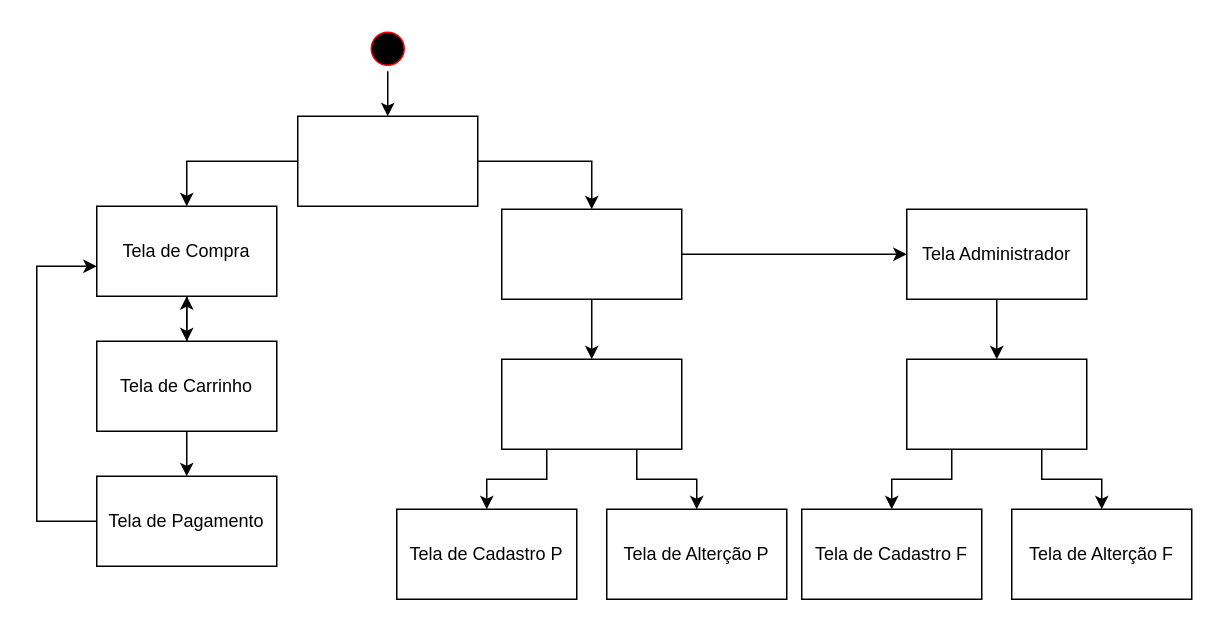
Some shapes in this 1218 by 626 pixel diagram are drawn without their labels. Each missing label, with the centre of its shape:
Tela de Estoque: point (591, 403)
Tela de Funcionarios: point (996, 403)
Tela de Login: point (591, 253)
Tela Inicial: point (387, 160)
